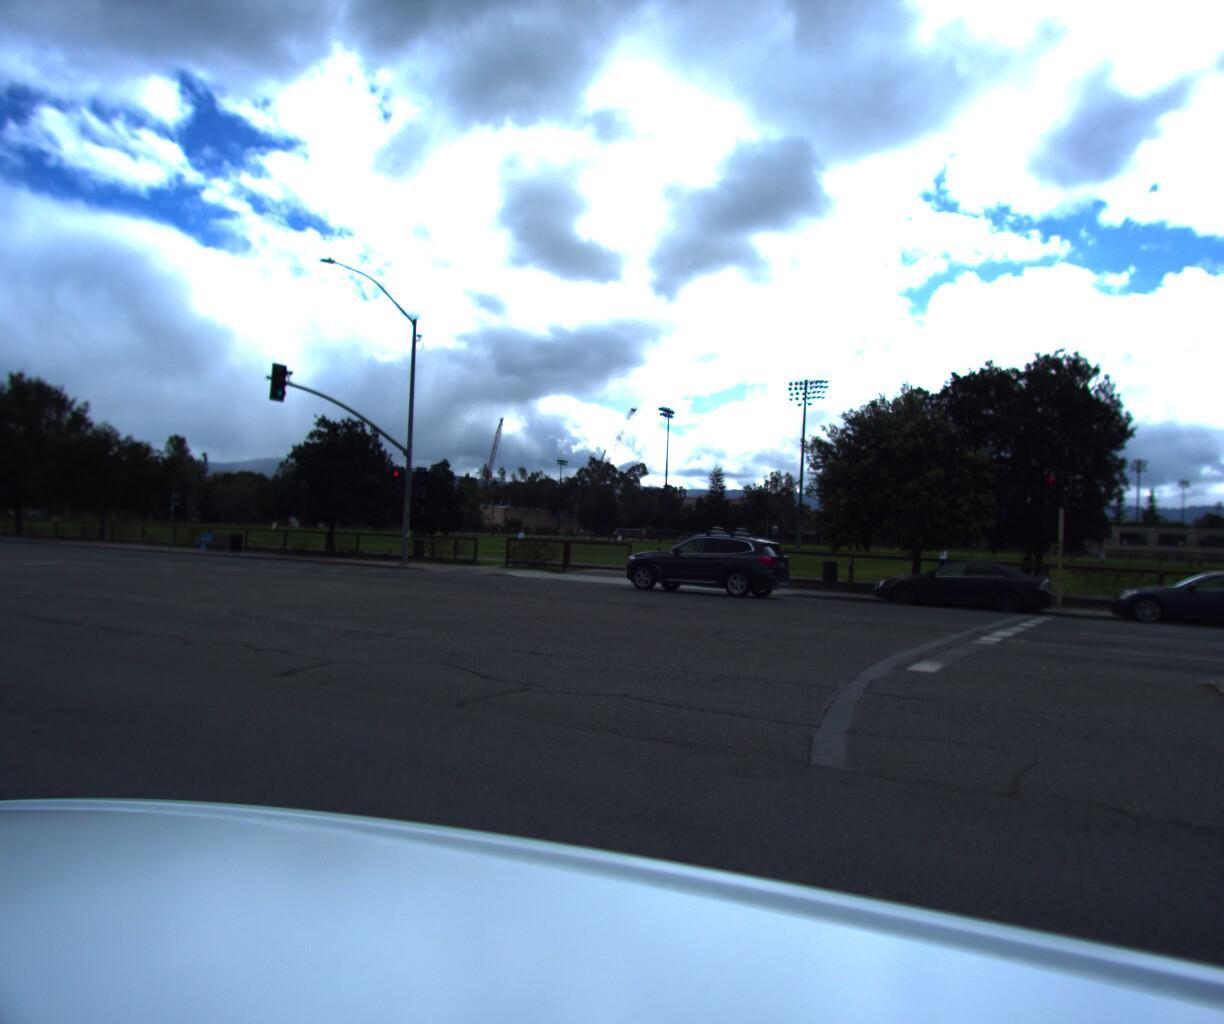car: (610, 524, 802, 605), (864, 552, 1058, 619), (1103, 562, 1224, 641)
